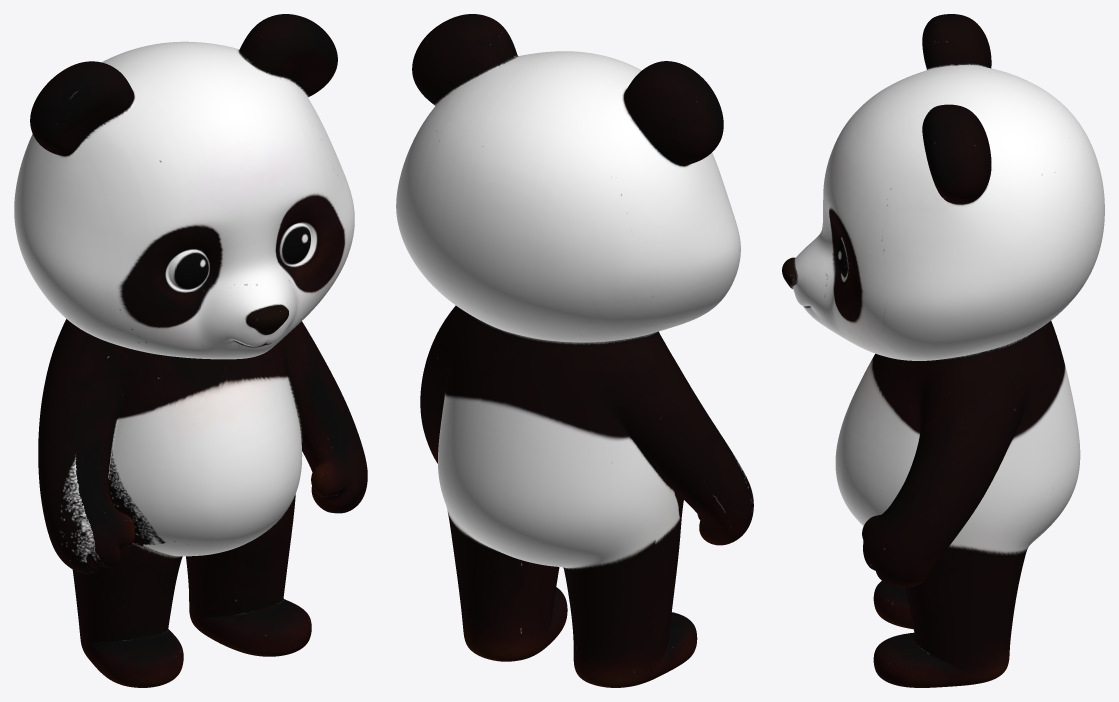
Rendered from panda_resized.glb.
3 views of the same model, side by side, from view 1: azimuth 30°, elevation 25°; view 2: azimuth 150°, elevation 25°; view 3: azimuth 270°, elevation 25° (orthographic). The views are drawn at different scales.
Visible parts, largest first — view 1: world; view 2: world; view 3: world.
Part boxes in pixels (left/top/right/bottom): world: left=14, top=14, right=367, bottom=687; world: left=396, top=14, right=753, bottom=687; world: left=782, top=14, right=1104, bottom=687.
Size of the model in its own units: 1.06 by 2 by 1.
Materials: 1 (1 with a texture image).
